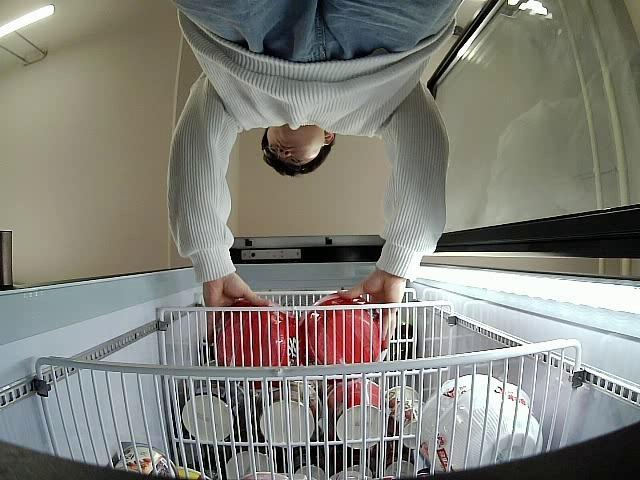10_wangTtukkeong: (294, 288, 388, 368), (215, 304, 295, 368)
